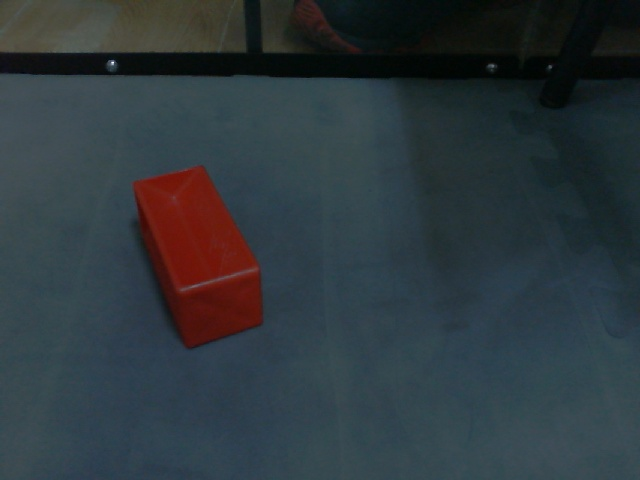RedSample: (131, 164, 267, 352)
